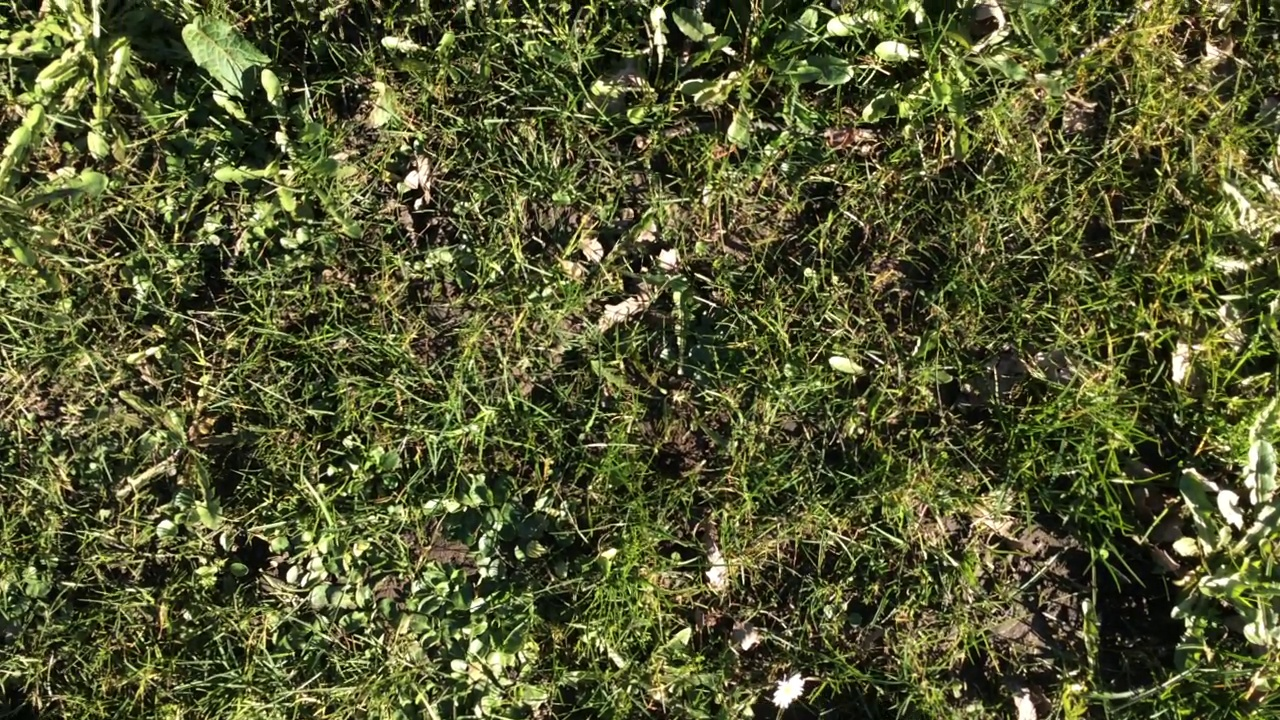rumex: (185, 15, 268, 98)
